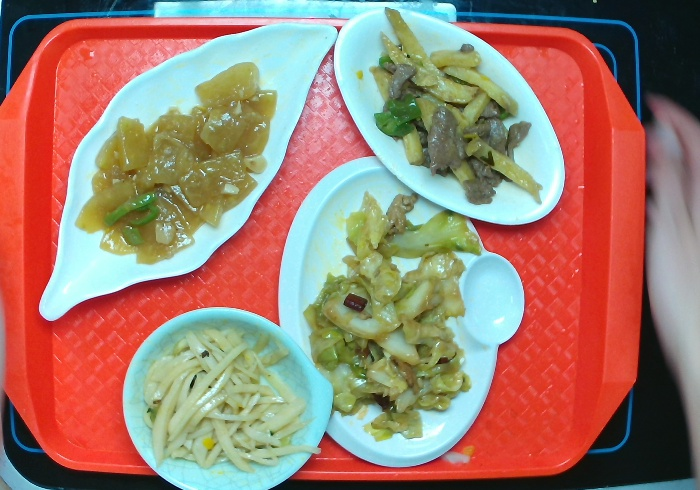RJxy-Bai_Se_Tuo_Yuan: (330, 7, 567, 227)
RJxy-Shu_Ye_Pan: (37, 20, 338, 322)
RJxy-Xiao_Jiao_Yuan_Wan: (119, 291, 335, 490)
RJxy-Zhan_Liao_Pan: (276, 156, 531, 471)
